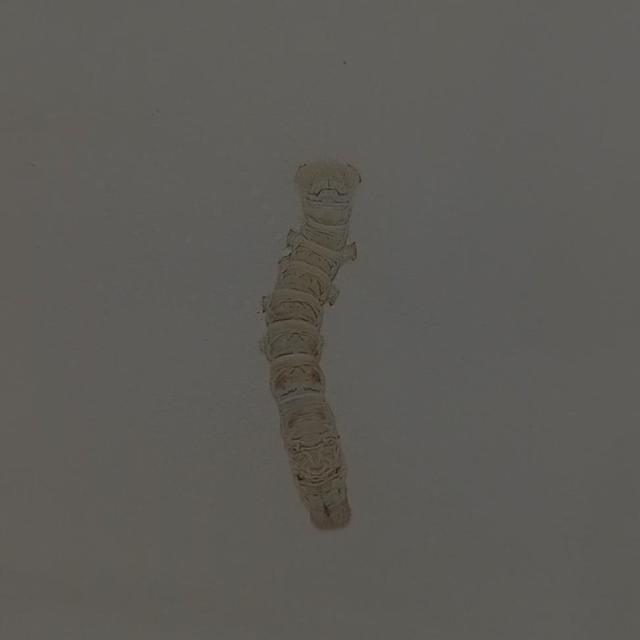Healthy: (242, 147, 386, 540)
